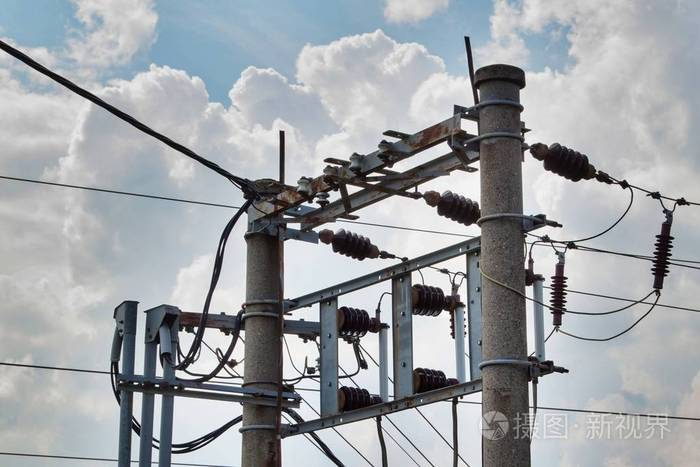insulator: (542, 141, 592, 182), (437, 189, 478, 225), (650, 233, 679, 278), (331, 227, 368, 262), (339, 304, 369, 343), (412, 283, 443, 318), (547, 273, 570, 318), (339, 384, 373, 414), (413, 366, 446, 387)
